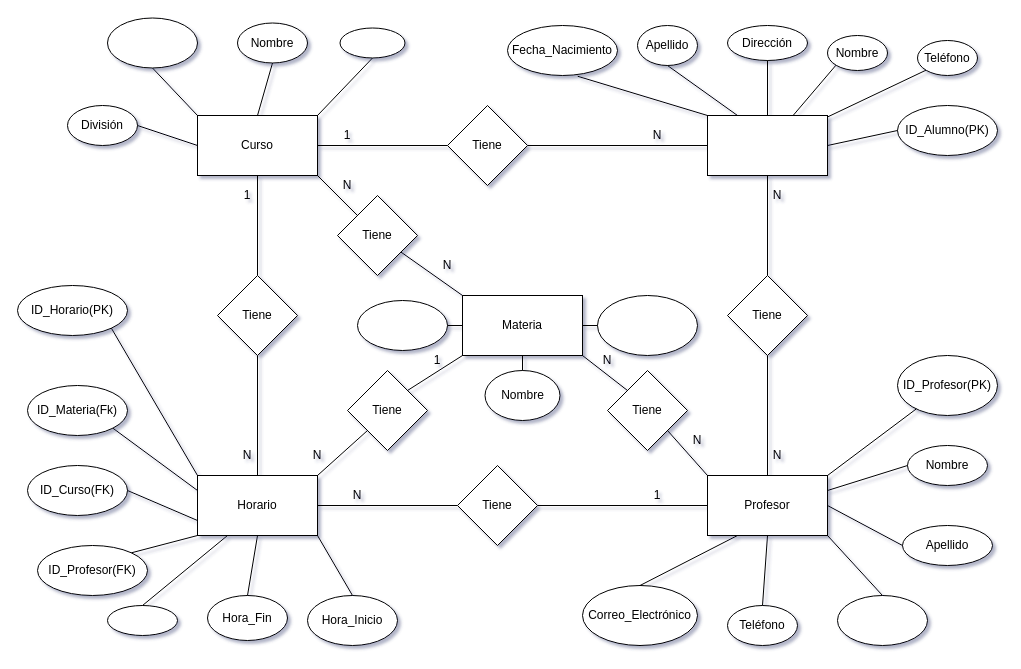
The diagram is 1021 pixels wide and 669 high, and some of its shapes have lost their labels. Here are the shapes that lost their labels. From the top down, the centre of each, then its label:
At (152,42): "ID_Curso(PK)".
At (372,42): "Año".
At (767,145): "Alumno".
At (402,325): "Descripción".
At (647,325): "ID_Materia(PK)".
At (142,620): "Día".
At (882,620): "Especialidad".
